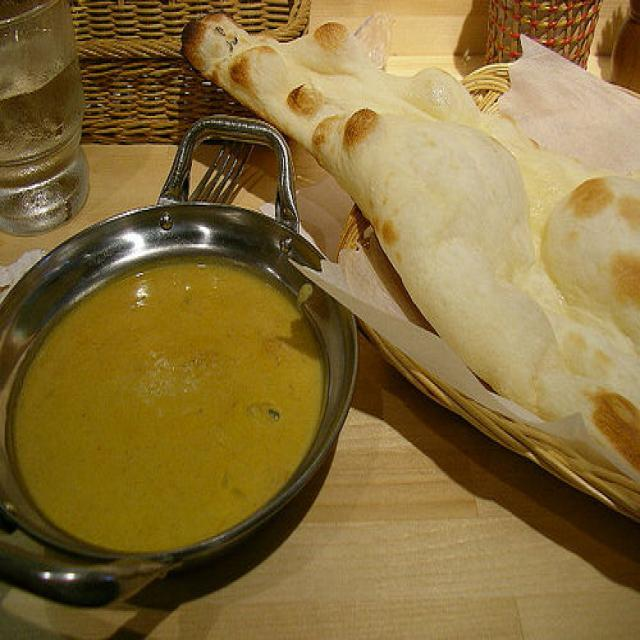Beef Curry: (28, 258, 309, 522)
